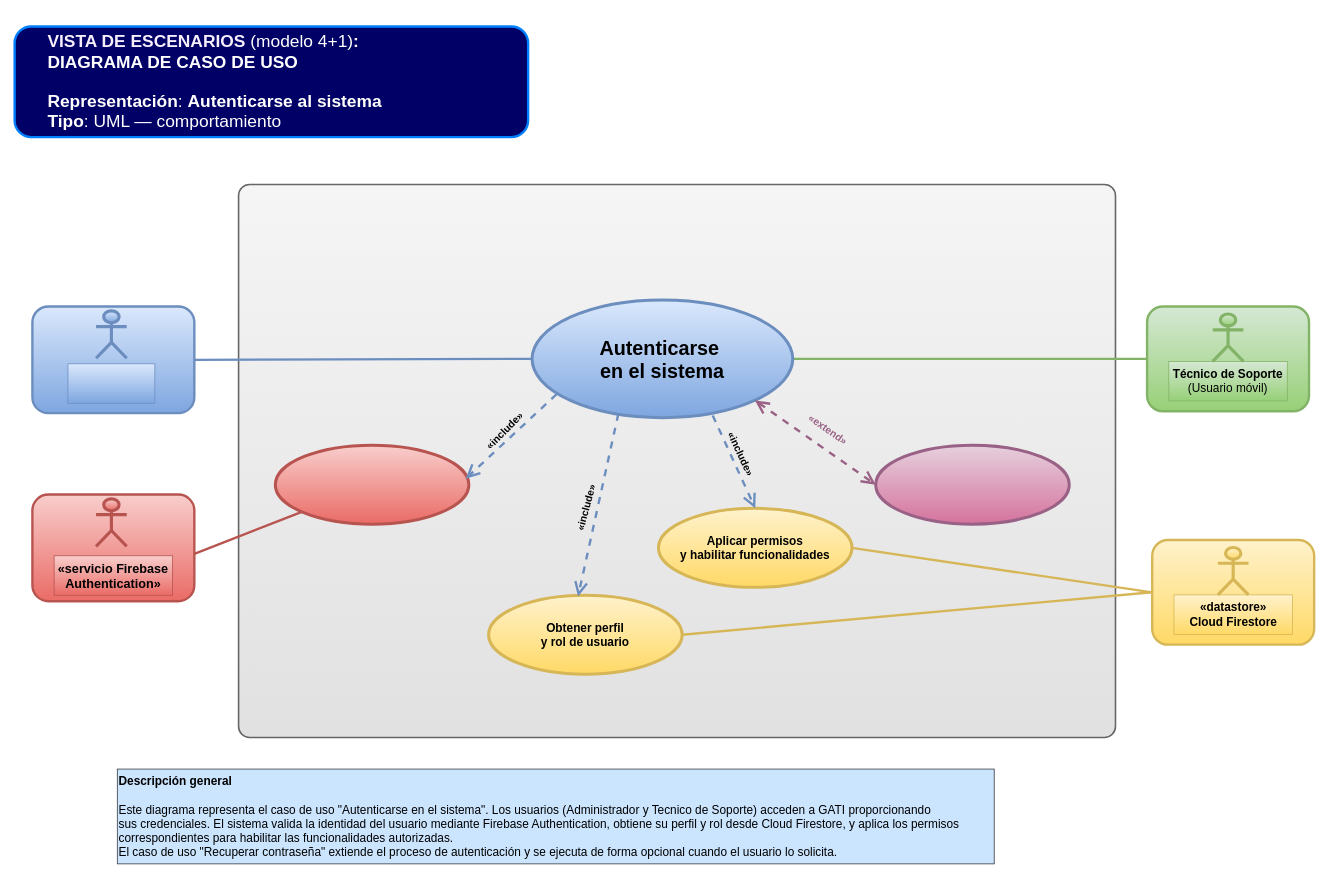
This 1329x878 diagram has some shape labels left out. The shapes that lost their labels are listed below. From the top down, each one's centre as x and y in pixels, then its label:
At [111,383]: "Administrador (Usuario web)".
At [371,484]: "Validar credenciales en Firebase Authentication".
At [972,484]: "Recuperar Contraseña".
